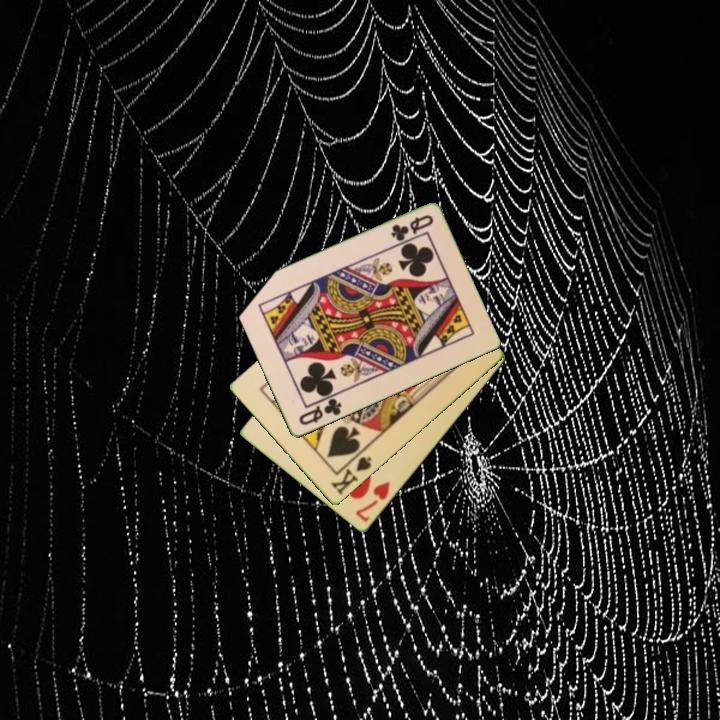7h: (352, 479, 393, 525)
Ks: (327, 448, 374, 498)
Qc: (295, 395, 345, 429), (387, 212, 436, 245)
